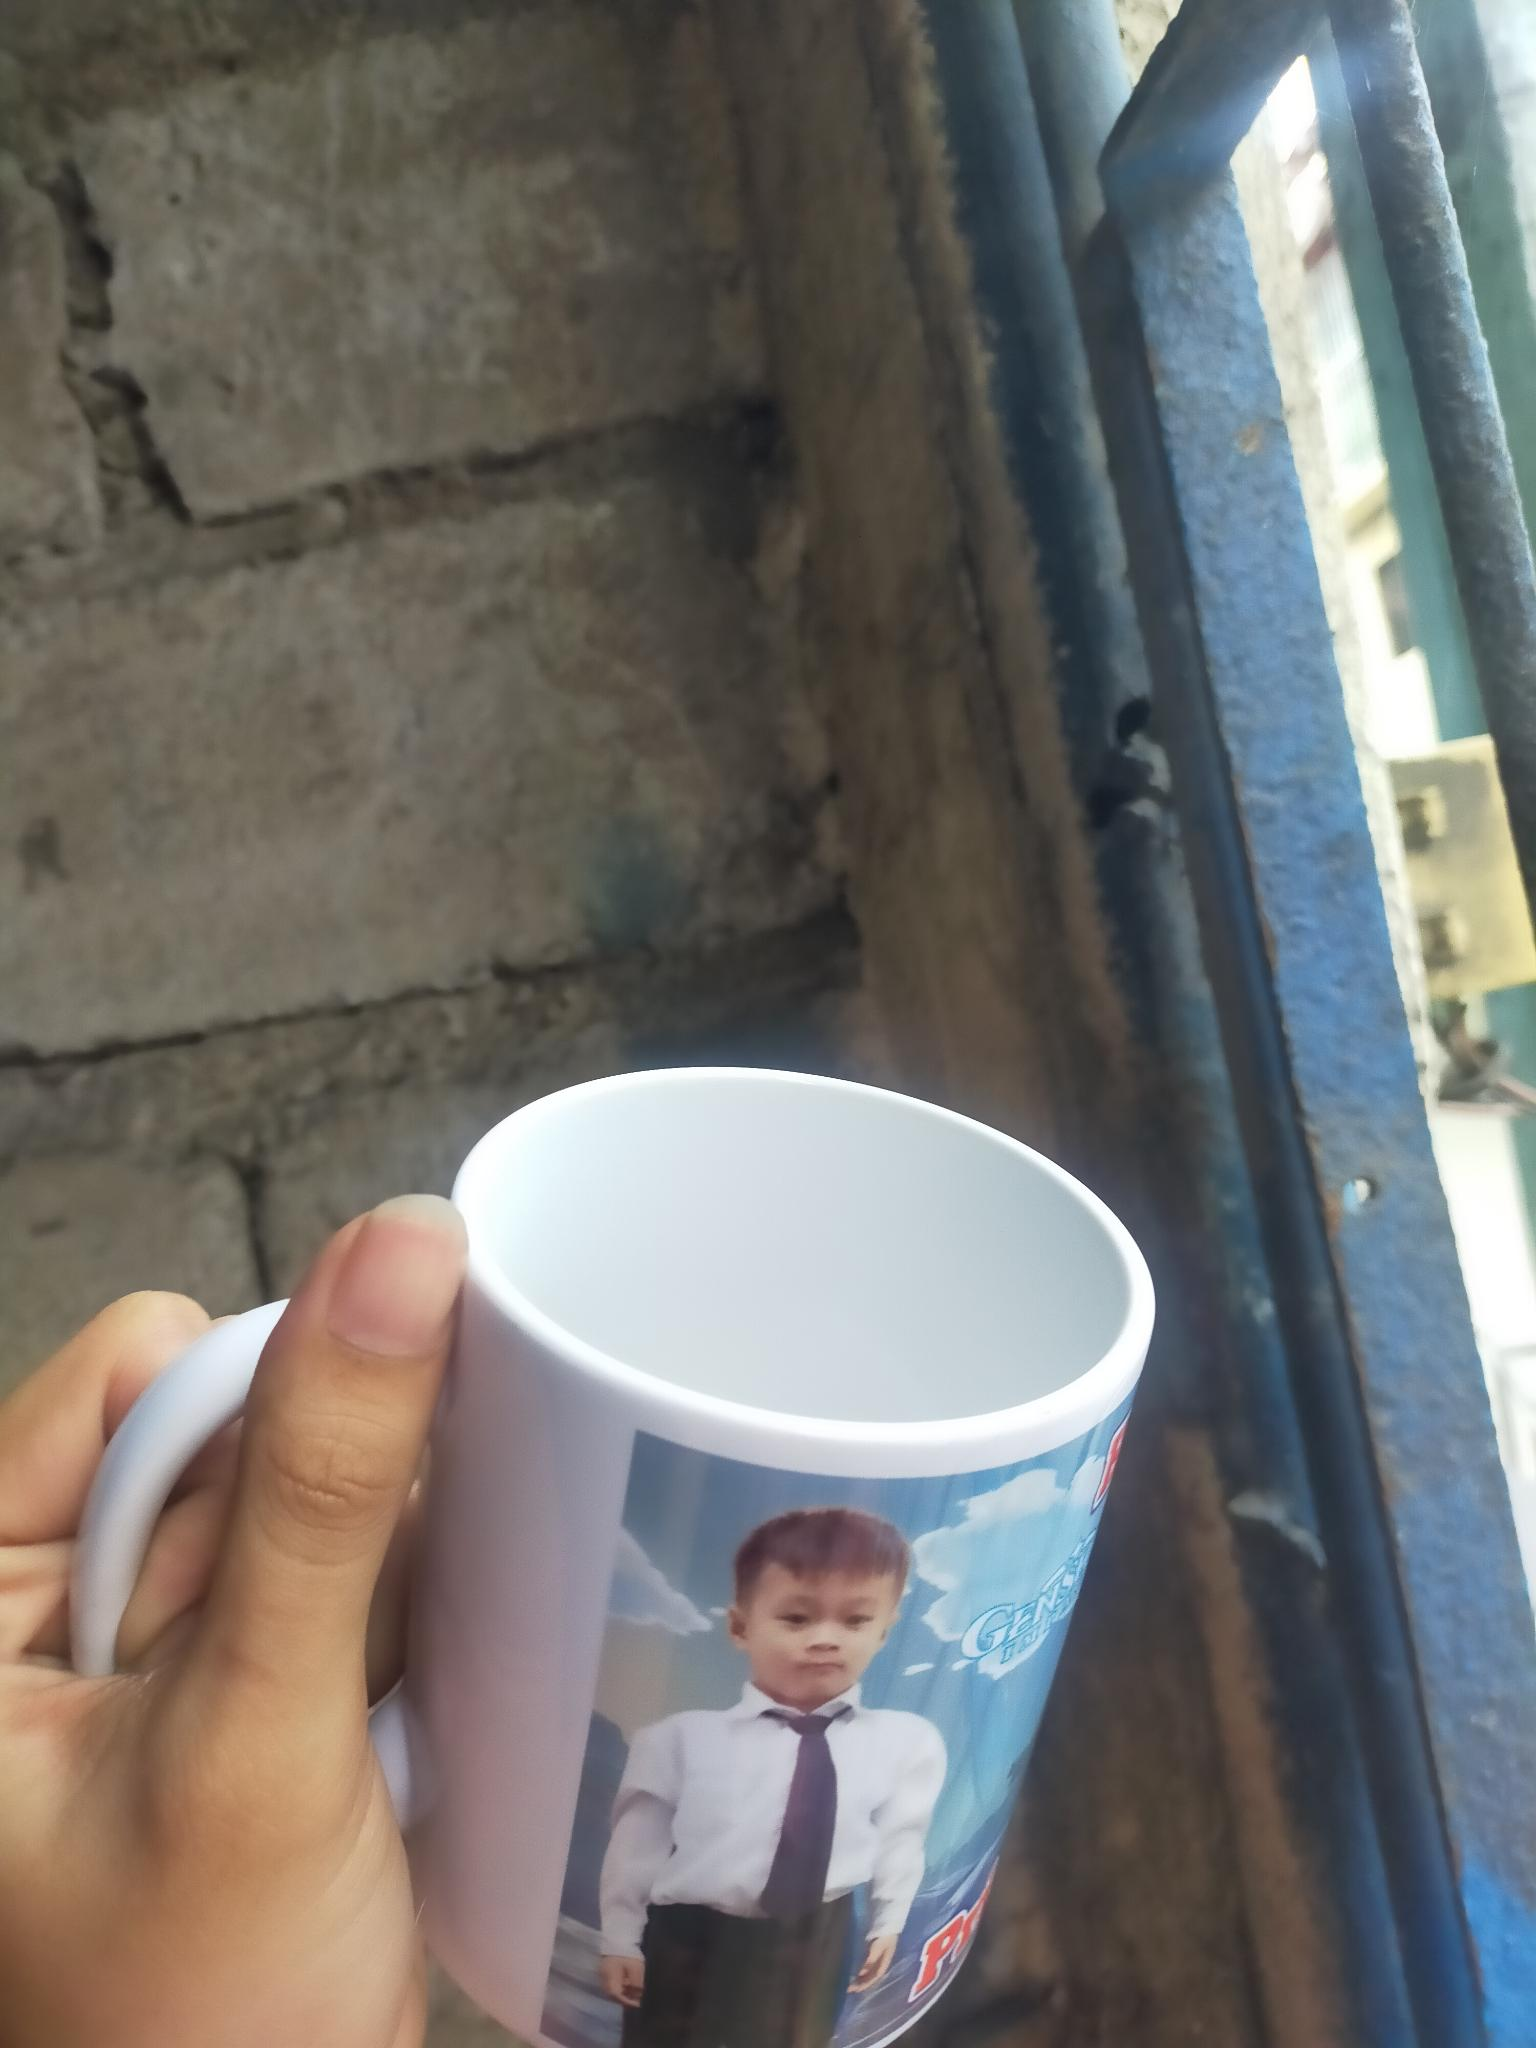Coffee Mug: (73, 1071, 1152, 2048)
